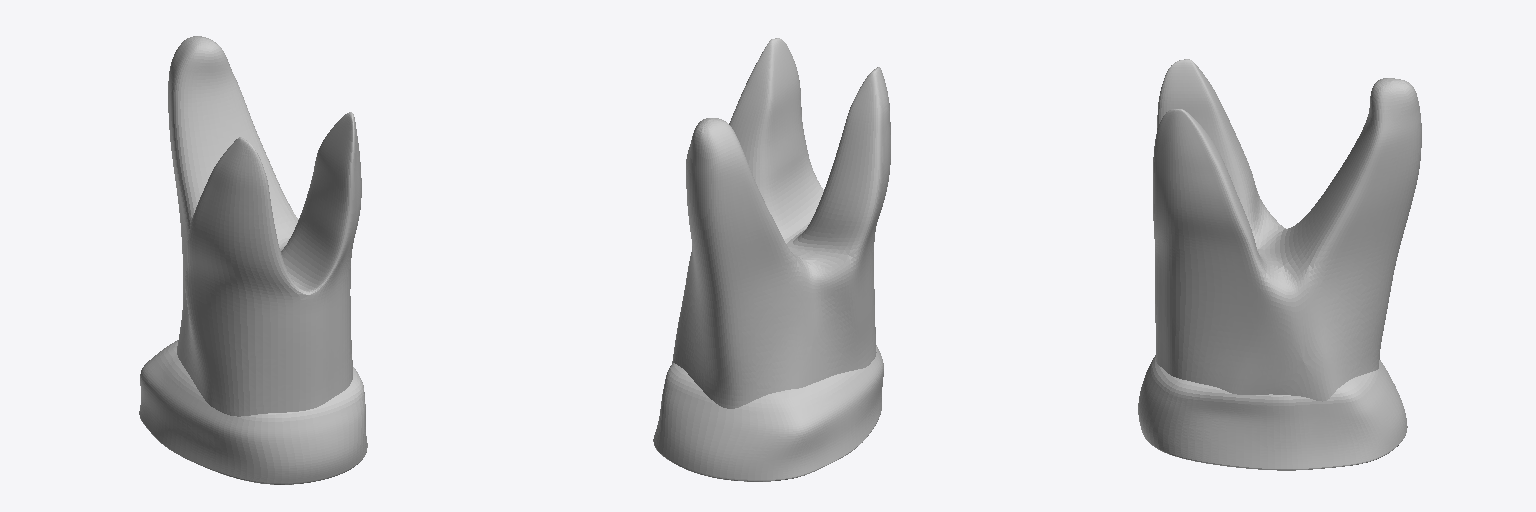
The model's file is Transversal.obj.
3 views of the same model, side by side, from view 1: azimuth 30°, elevation 25°; view 2: azimuth 150°, elevation 25°; view 3: azimuth 270°, elevation 25° (orthographic).
Visible parts, largest first — view 1: Cylinder, Cylinder.001; view 2: Cylinder, Cylinder.001; view 3: Cylinder, Cylinder.001.
Boxes of the visible parts, <box> form: Cylinder: <box>168,36,361,416</box>; Cylinder.001: <box>139,340,367,484</box>; Cylinder: <box>672,38,890,408</box>; Cylinder.001: <box>653,345,883,481</box>; Cylinder: <box>1153,59,1421,401</box>; Cylinder.001: <box>1138,355,1407,470</box>.
Bounding box in the file's own units: 1.98 × 3.81 × 2.77.